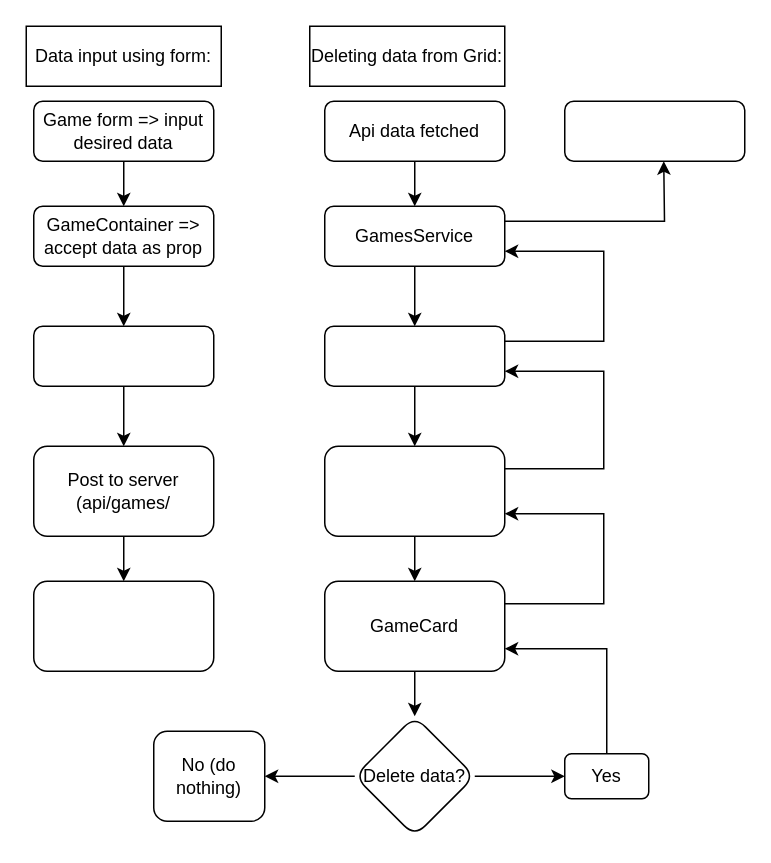
The diagram is 771 pixels wide and 863 high, and some of its shapes have lost their labels. Here are the shapes that lost their labels. From the top down, the centre of each, then its label:
At pixel 654 130: "DEL data from Api".
At pixel 123 355: "GameService => accept data as prop".
At pixel 414 355: "GameContainer".
At pixel 414 490: "GameGrid".
At pixel 123 625: "Re-render App".
